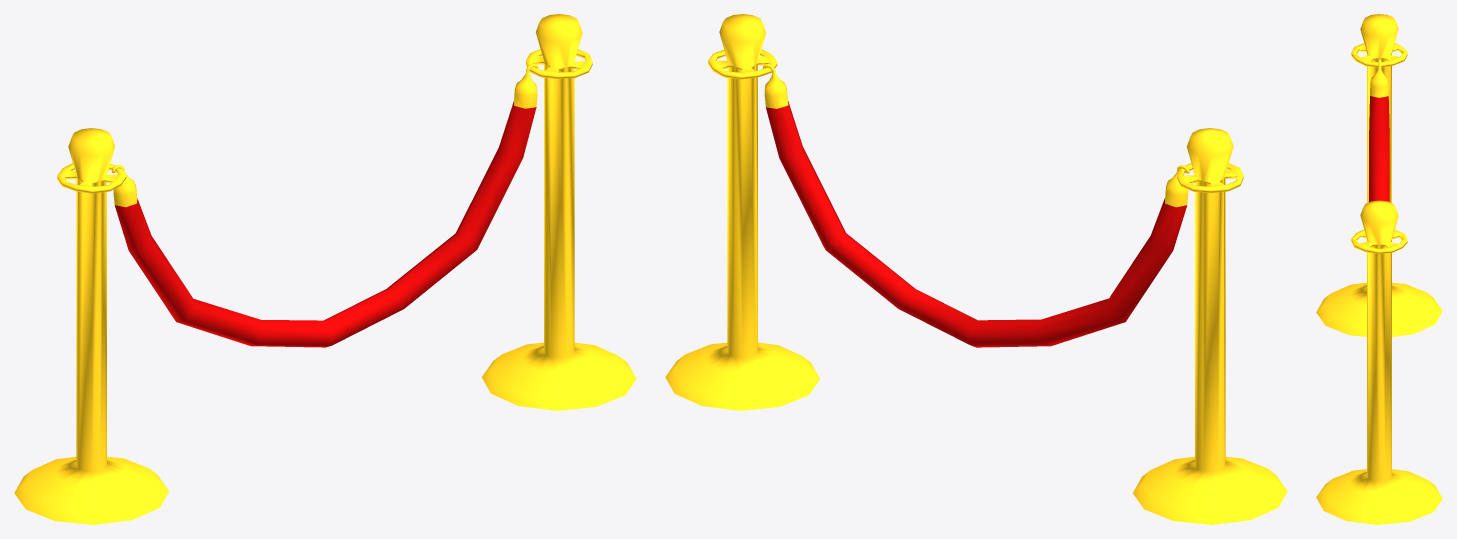
Rendered from VipRopeGoldShort.glb.
3 renders of one model, left to right at view 1: azimuth 30°, elevation 25°; view 2: azimuth 150°, elevation 25°; view 3: azimuth 270°, elevation 25°, orthographic. The views are drawn at different scales.
Parts seen in each view (by area): view 1: VipRopeGoldShort; view 2: VipRopeGoldShort; view 3: VipRopeGoldShort.
Boxes of the visible parts, left/top/right/bottom form: VipRopeGoldShort: left=14, top=14, right=636, bottom=524; VipRopeGoldShort: left=665, top=14, right=1287, bottom=524; VipRopeGoldShort: left=1316, top=14, right=1442, bottom=524.
Size of the model in its own units: 2.05 by 1.17 by 0.4581.
Materials: 2 (2 with a texture image).
